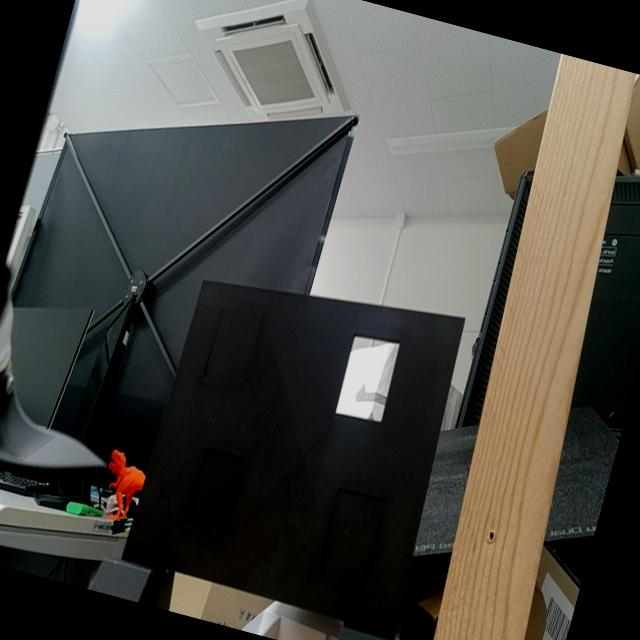Obstacle: (334, 336, 401, 422)
Wall: (119, 282, 463, 638)
